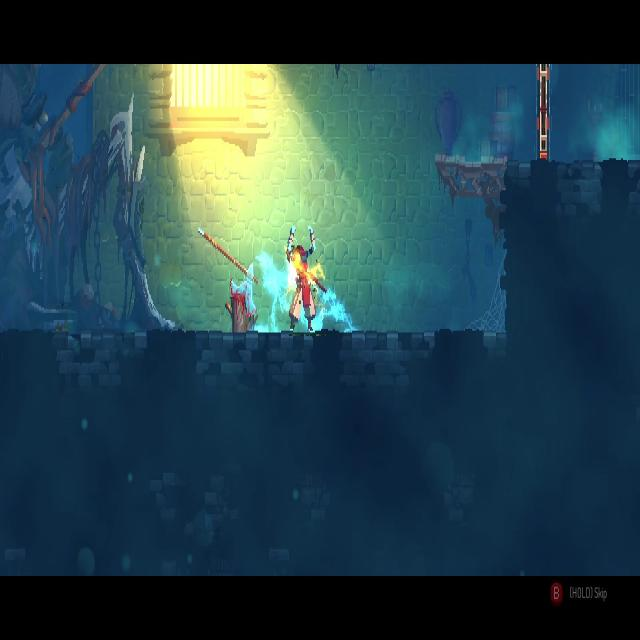agents: (286, 225, 318, 336)
door_regular: (536, 64, 552, 162)
wood_floor: (432, 152, 506, 204)
